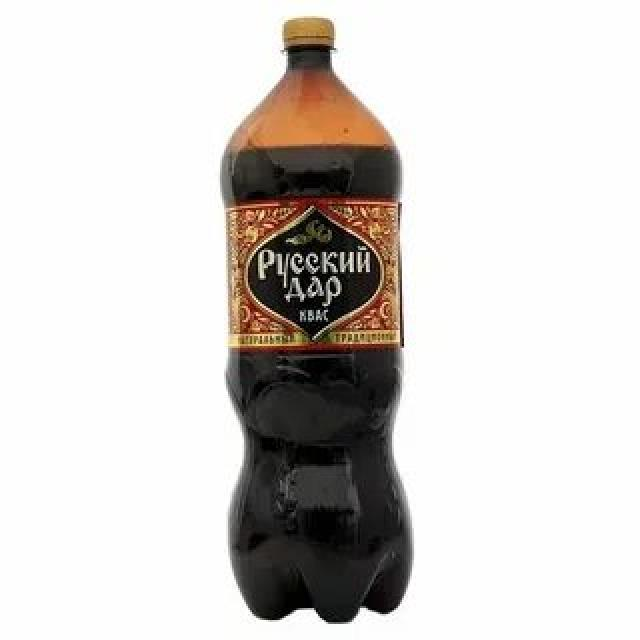brown: (220, 50, 412, 622)
